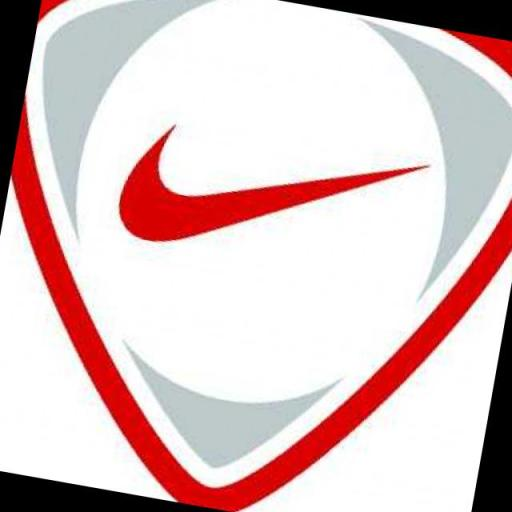Nike: (106, 108, 436, 290)
